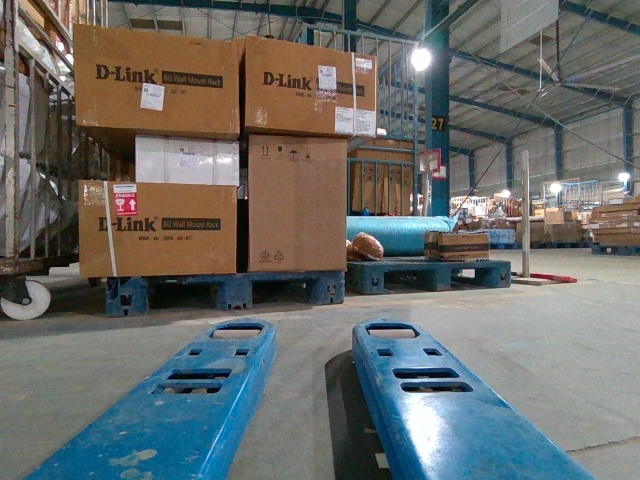pallet: (109, 272, 344, 311)
